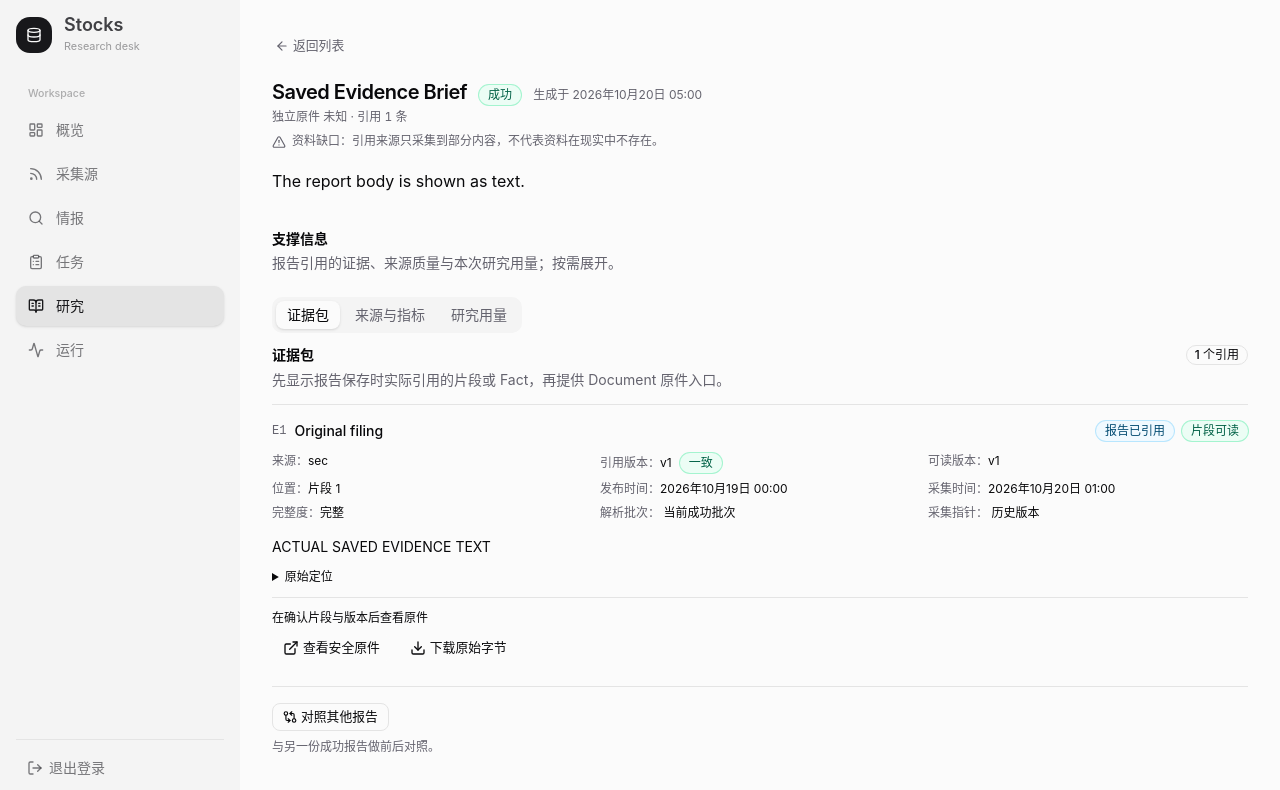
Test: ResearchDetailPage › opens compare mode and returns to the report body
Expected: the text "The report body is shown as text." is shown, x1=272 y1=171 x2=525 y2=191
Click the button "对照其他报告" at (330, 717), box x1=272 y1=703 x2=389 y2=731
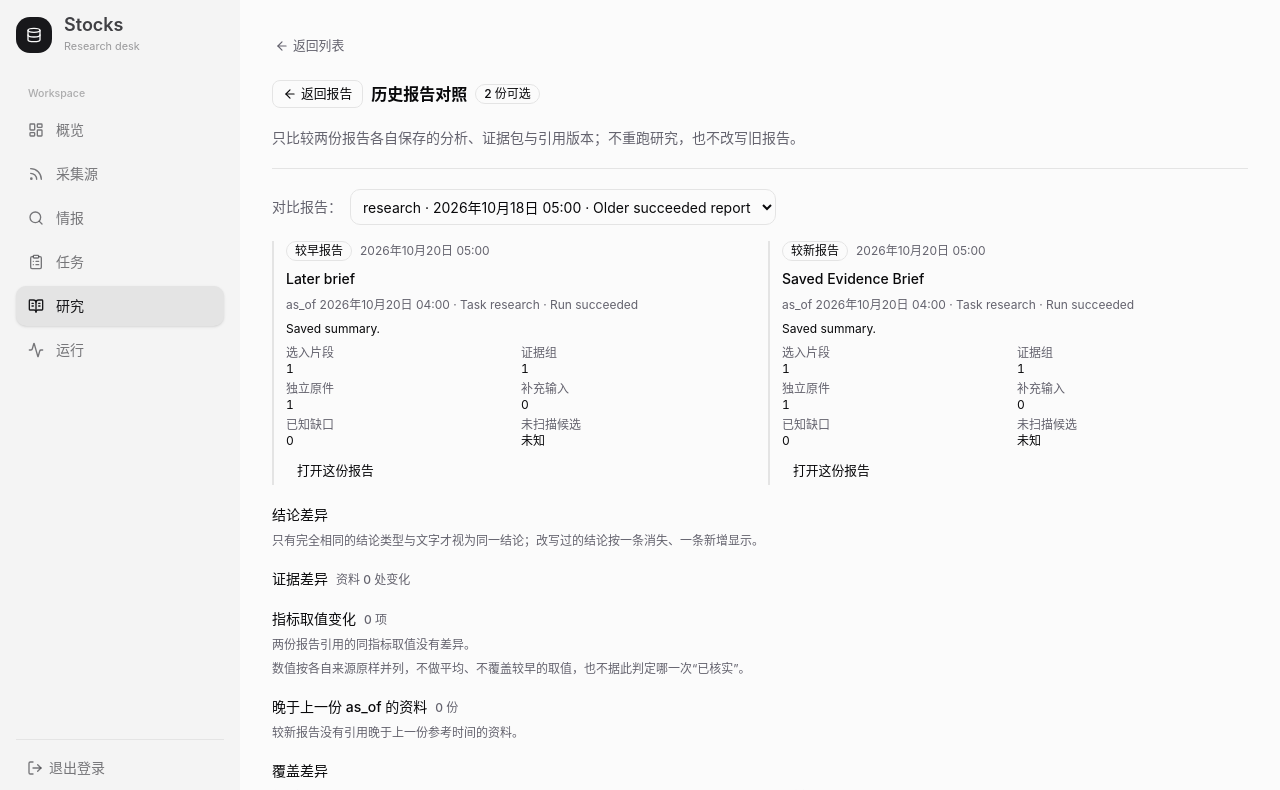
Now the heading "历史报告对照" is shown, box x1=371 y1=82 x2=467 y2=106
Now the text "The report body is shown as text." is gone
Note: 返回报告退出对照模式并恢复正文，不重新拉取详情或对照。
Click the button "返回报告" at (318, 94), box x1=272 y1=80 x2=363 y2=108
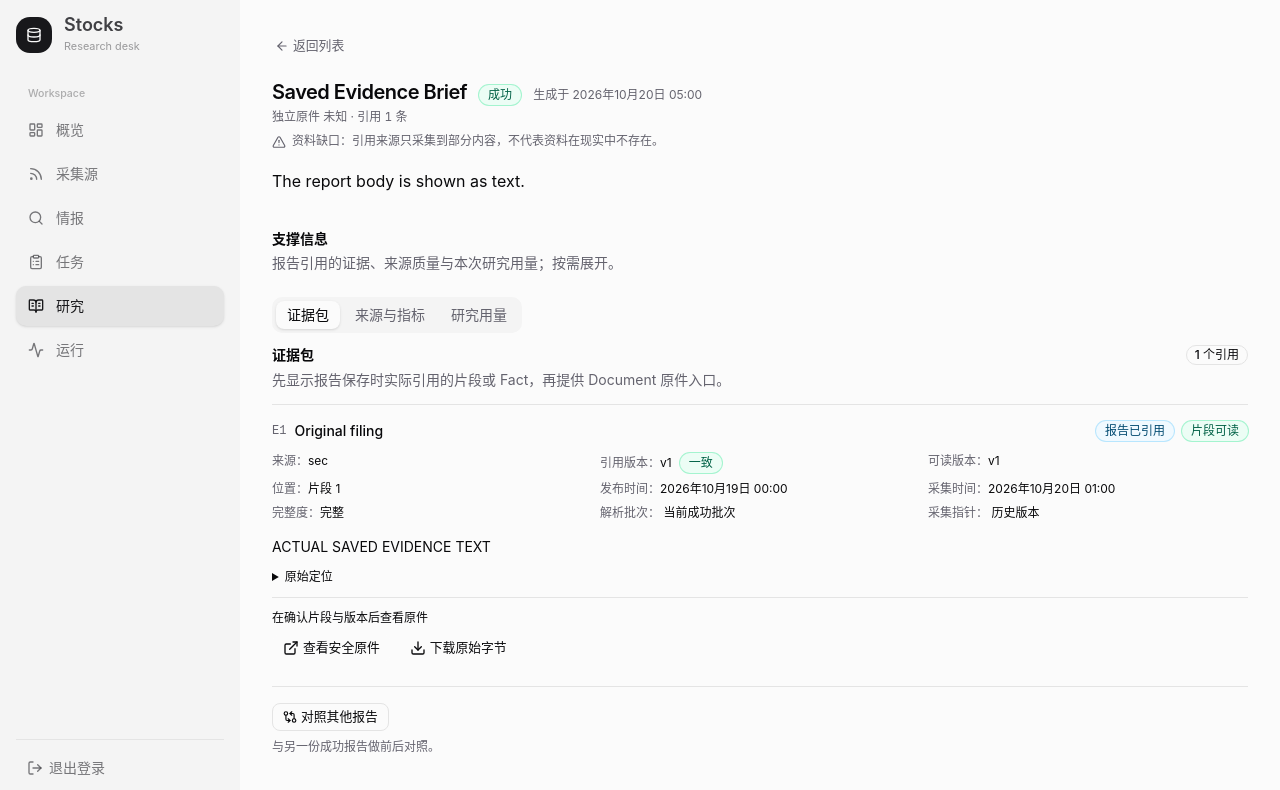
Now the text "The report body is shown as text." is shown, box x1=272 y1=171 x2=525 y2=191
Now the heading "历史报告对照" is gone
